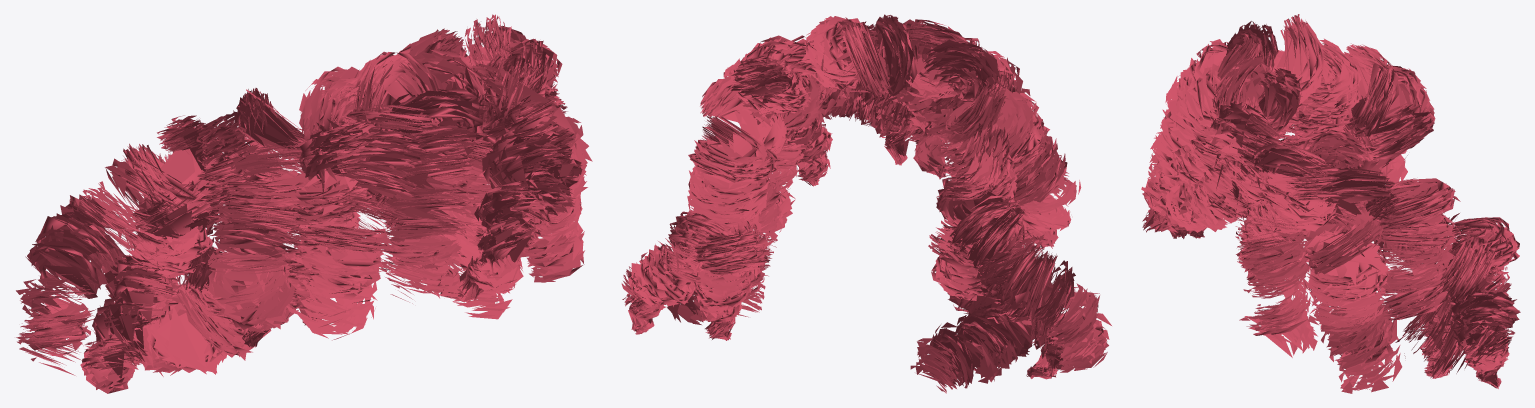
File: hair.glb
3 views of the same model, side by side, from view 1: azimuth 30°, elevation 25°; view 2: azimuth 150°, elevation 25°; view 3: azimuth 270°, elevation 25° (orthographic). The views are drawn at different scales.
Parts seen in each view (by area): view 1: Hair; view 2: Hair; view 3: Hair.
Part boxes in pixels (left/top/right/bottom): Hair: left=16, top=14, right=592, bottom=393; Hair: left=621, top=14, right=1111, bottom=393; Hair: left=1141, top=14, right=1520, bottom=393.
Bounding box in the file's own units: 1.59 × 1.01 × 1.19.
